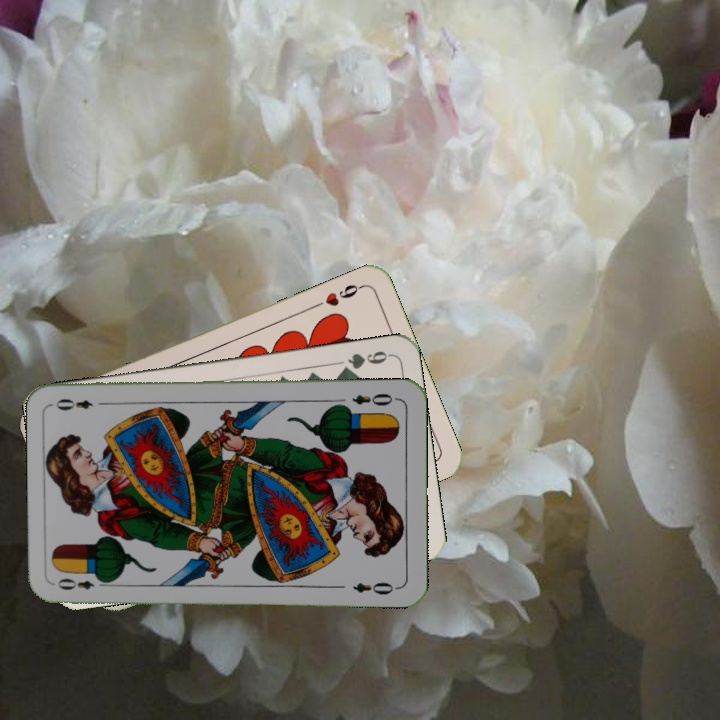EO: (54, 573, 111, 593), (348, 389, 400, 409)
G9: (336, 346, 393, 376)
H9: (309, 280, 366, 310)
